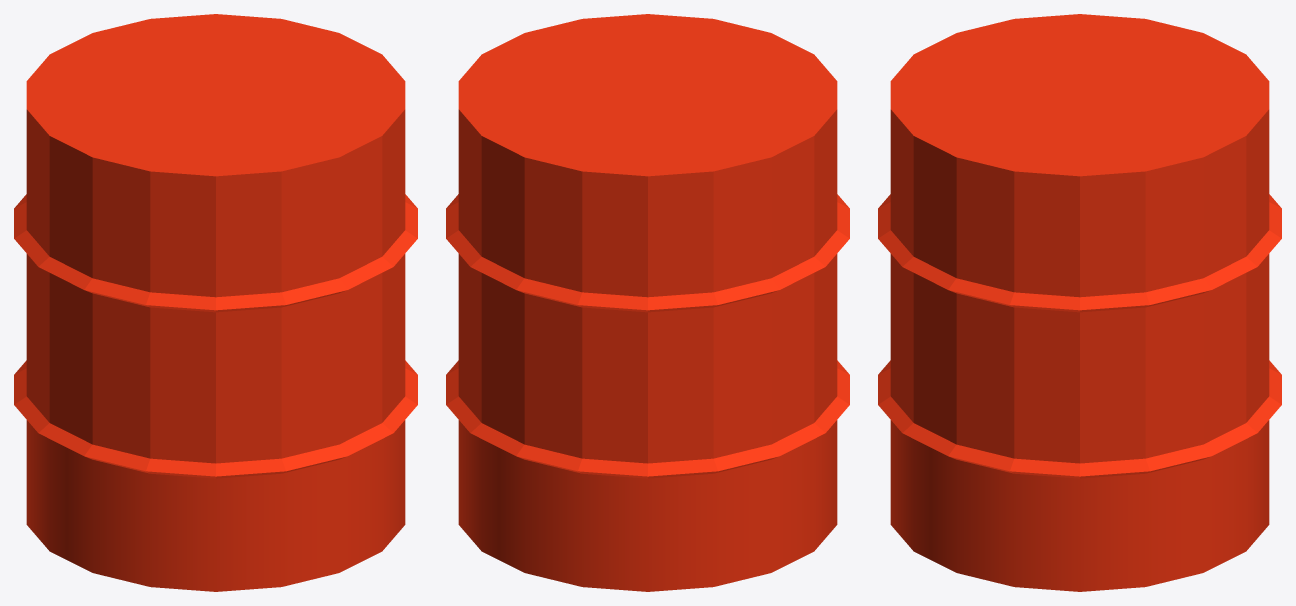
The model's file is objectBarricade2.fbx.
3 renders of one model, left to right at view 1: azimuth 30°, elevation 25°; view 2: azimuth 150°, elevation 25°; view 3: azimuth 270°, elevation 25°, orthographic.
Visible parts, largest first — view 1: Cylinder001; view 2: Cylinder001; view 3: Cylinder001.
Part boxes in pixels (left/top/right/bottom): Cylinder001: left=14, top=14, right=417, bottom=591; Cylinder001: left=446, top=14, right=849, bottom=591; Cylinder001: left=878, top=14, right=1281, bottom=591.
Size of the model in its own units: 32.03 by 35.81 by 31.54.
